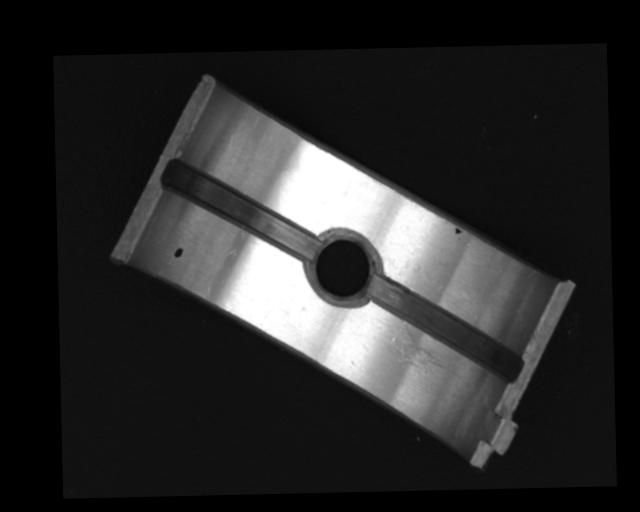blot: (172, 245, 184, 259), (453, 226, 464, 235)
gap: (369, 269, 523, 385), (166, 157, 316, 262)
hole: (308, 229, 378, 305)
scratch: (392, 317, 465, 382)
